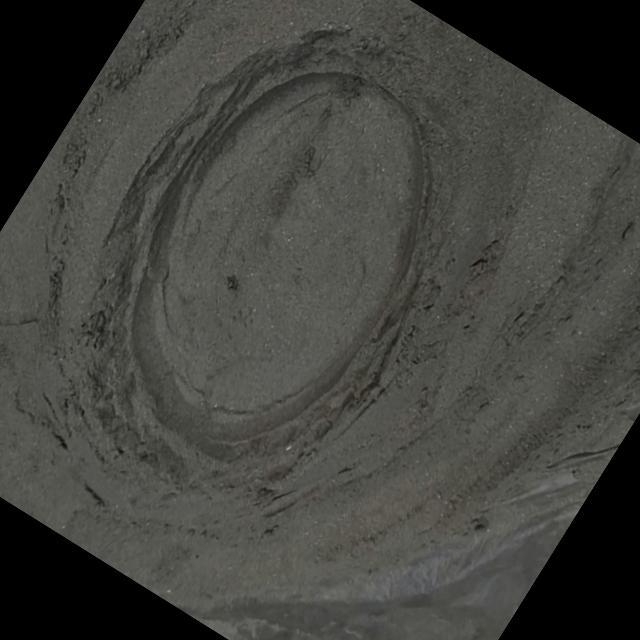C40: (130, 72, 422, 446)
